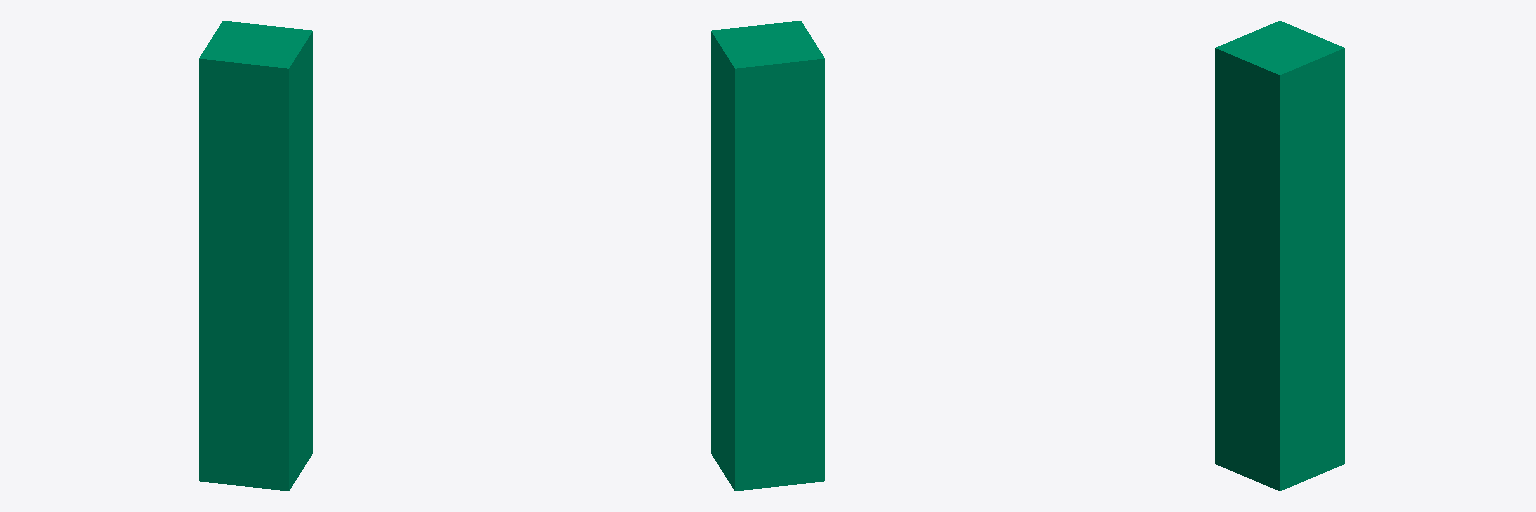
robot.urdf — ground_skeleton:
<?xml version="1.0"?>
<robot name="ground_skeleton">
    <link name="world" />
    <link name="world_frame">
        <inertial>
            <mass value="0.000000001" />
            <origin xyz="0 0 0" rpy="0 0 0" />
            <inertia ixx="0.000000001" ixy="0.000000001" ixz="0.000000001" iyy="1.0" iyz="0" izz="1.0" />
        </inertial>
    </link>
    <link name="ground_link">
         <collision>
            <origin xyz= "0 0 0" rpy="0. 0 0" />
            <geometry>
                <box size="1 1 5" />
            </geometry>
        </collision>
         <visual name="visual">
            <origin xyz = "0 0 0" rpy="0. 0 0" />
            <geometry>
                <box size="1 1 5" />
            </geometry>
        </visual>
        <inertial>
            <mass value="1.0" />
            <origin xyz="0 0 0" rpy="0 0 0" />
            <inertia ixx="1.0" ixy="0" ixz="0" iyy="1.0" iyz="0" izz="1.0" />
        </inertial>
    </link>
    <joint name="ground_j
oint" type="fixed">
        <origin xyz="-0.7 0.0 0.0" rpy="0 0 -0.78539816339" />
        <parent link="world" />
        <child link="ground_link" />
    </joint>
    <joint name="frame_joint" type="fixed">
        <origin xyz="0 0 0" rpy="0 0 0" />
        <parent link="world" />
        <child link="world_frame" />
    </joint>
</robot>

--- Render facts (derived) ---
The picture shows the robot from 3 angles, left to right: view 1: azimuth 30°, elevation 25°; view 2: azimuth 150°, elevation 25°; view 3: azimuth 270°, elevation 25°; orthographic projection.
Robot: ground_skeleton — 3 links, 2 joints (2 fixed); root link world; default pose: all joints at 0.
Visible links, largest first — view 1: ground_link; view 2: ground_link; view 3: ground_link.
Boxes of the visible links, x1,y1,x2,y2 form: ground_link: (199, 21, 312, 490); ground_link: (711, 21, 824, 490); ground_link: (1215, 21, 1344, 490).
Bounding box of the posed robot: 1.41 × 1.41 × 5 m (x, y, z).
Geometry: primitives only (box / cylinder / sphere), no mesh files.